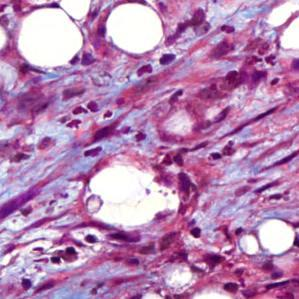steatosis: (18, 5, 86, 68), (105, 2, 166, 54)
